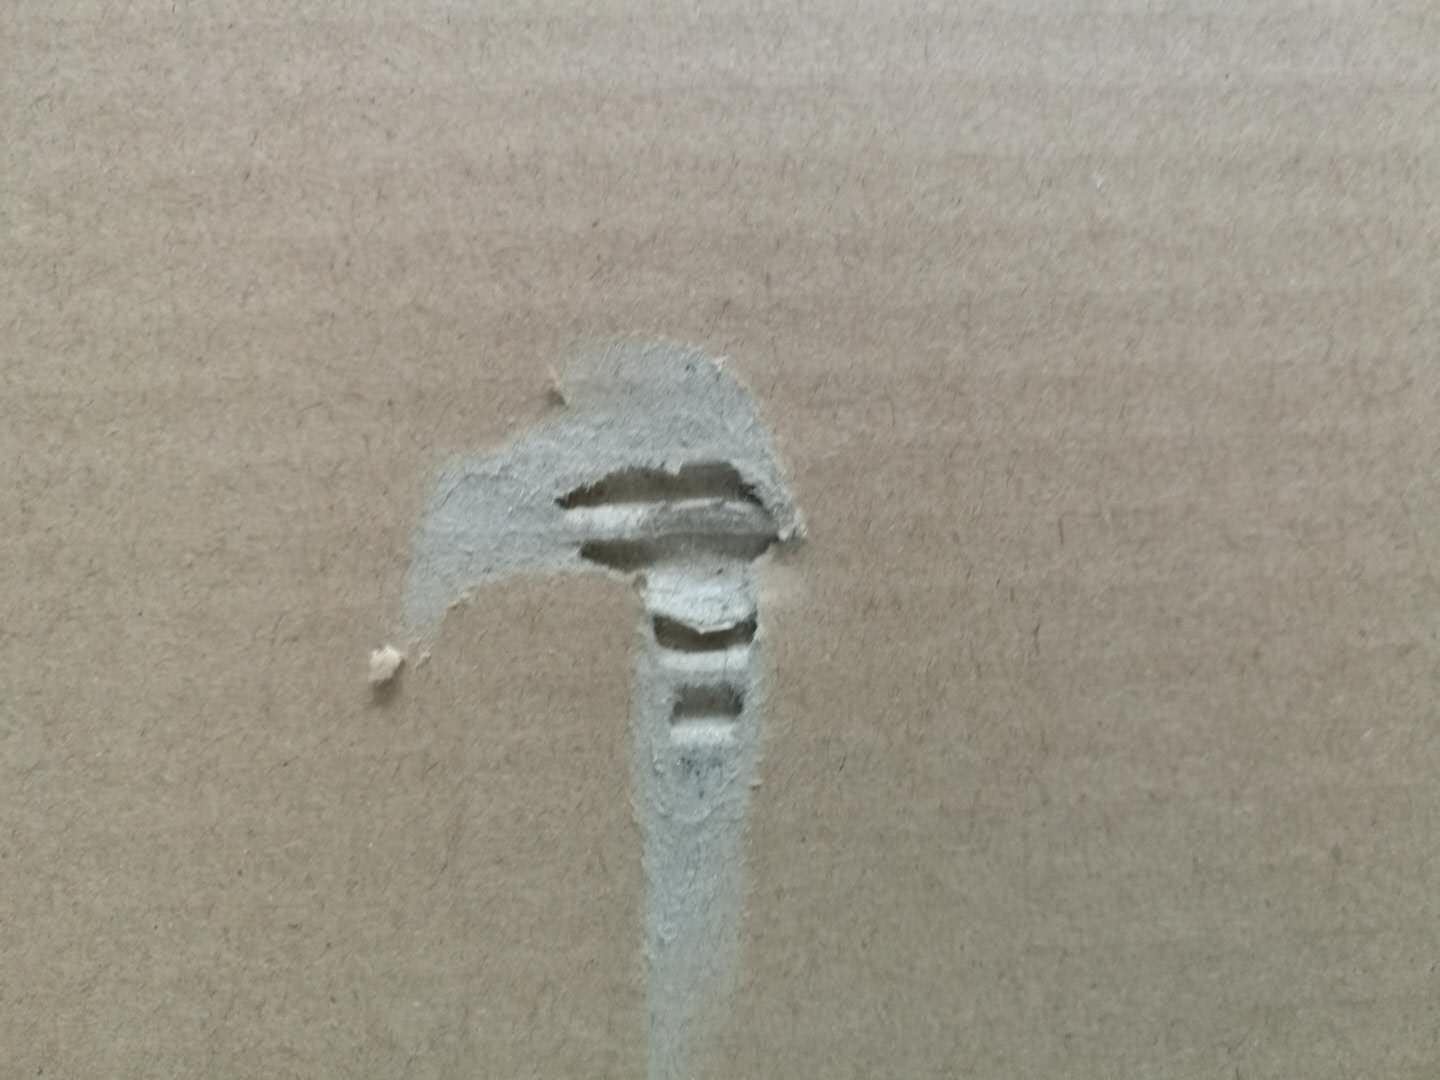defect: (351, 307, 862, 1080)
